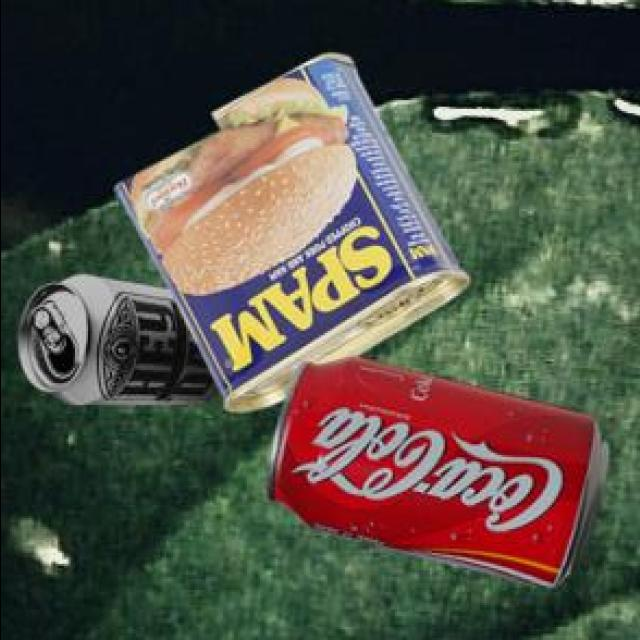logam: (112, 58, 465, 415), (264, 360, 604, 591), (14, 278, 219, 410)
